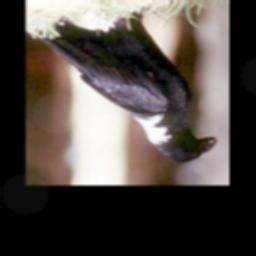Crow: (32, 7, 218, 168)
